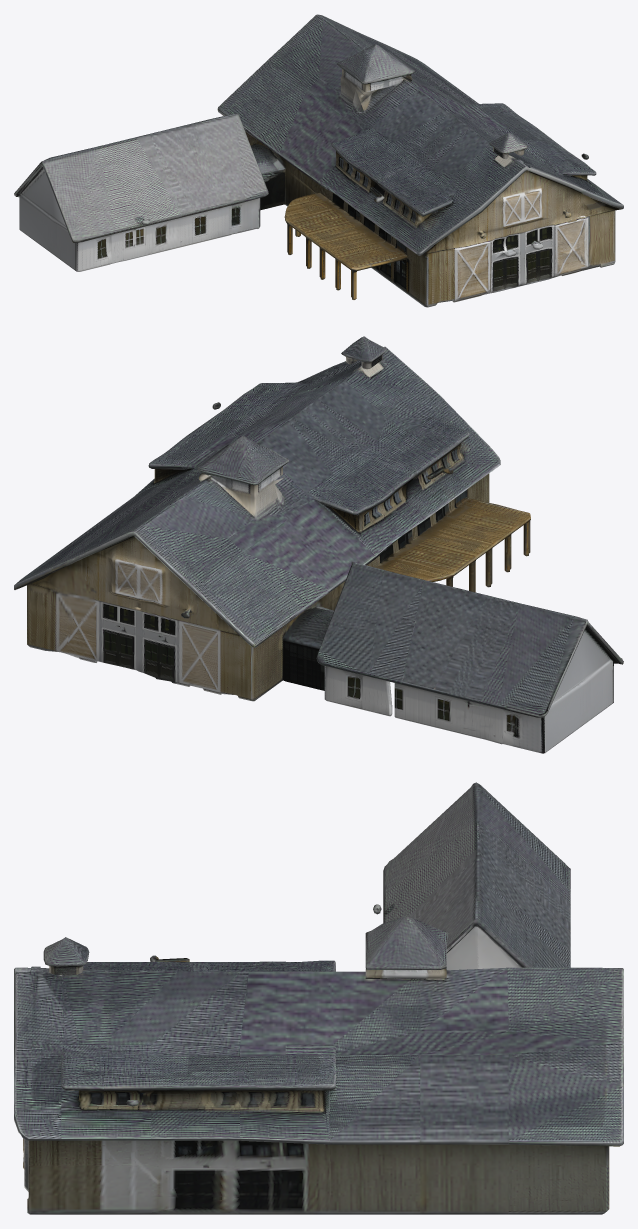
Rendered from The_Barn_At_Winds_Edge_0621171101_texture.glb.
3 views of the same model, one above another, from view 1: azimuth 30°, elevation 25°; view 2: azimuth 150°, elevation 25°; view 3: azimuth 270°, elevation 25° (orthographic). The views are drawn at different scales.
Visible parts, largest first — view 1: Mesh_0; view 2: Mesh_0; view 3: Mesh_0.
Part boxes in pixels (x1,y1,x2,y2): Mesh_0: (14, 14, 623, 307); Mesh_0: (14, 336, 623, 753); Mesh_0: (14, 782, 623, 1214).
Size of the model in its own units: 28.79 by 9.75 by 24.41.
Materials: 1 (1 with a texture image).
